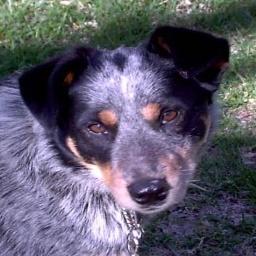dog: (0, 26, 232, 256)
